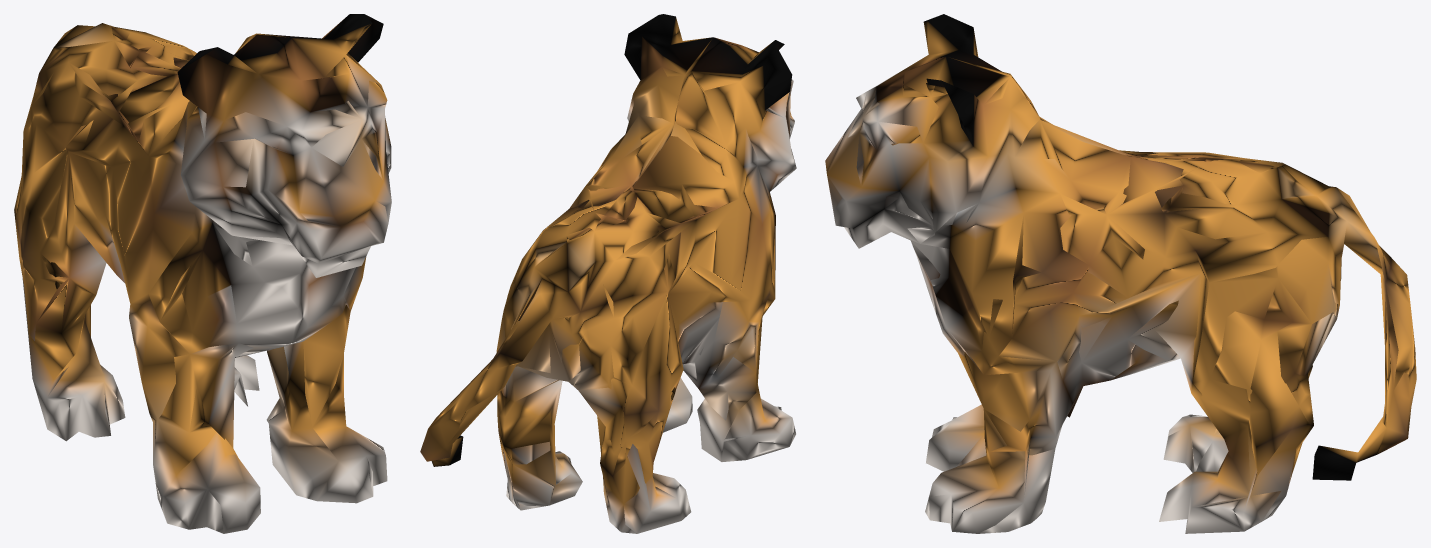
Rendered from gen3d-tiger-standing-cartoon-lod0.glb.
3 views of the same model, side by side, from view 1: azimuth 30°, elevation 25°; view 2: azimuth 150°, elevation 25°; view 3: azimuth 270°, elevation 25° (orthographic). The views are drawn at different scales.
Parts seen in each view (by area): view 1: part_0; view 2: part_0; view 3: part_0.
Boxes of the visible parts, <box> form: part_0: <box>14,14,391,533</box>; part_0: <box>420,14,796,533</box>; part_0: <box>825,14,1416,533</box>.
Size of the model in its own units: 0.5272 by 0.9998 by 1.21.
